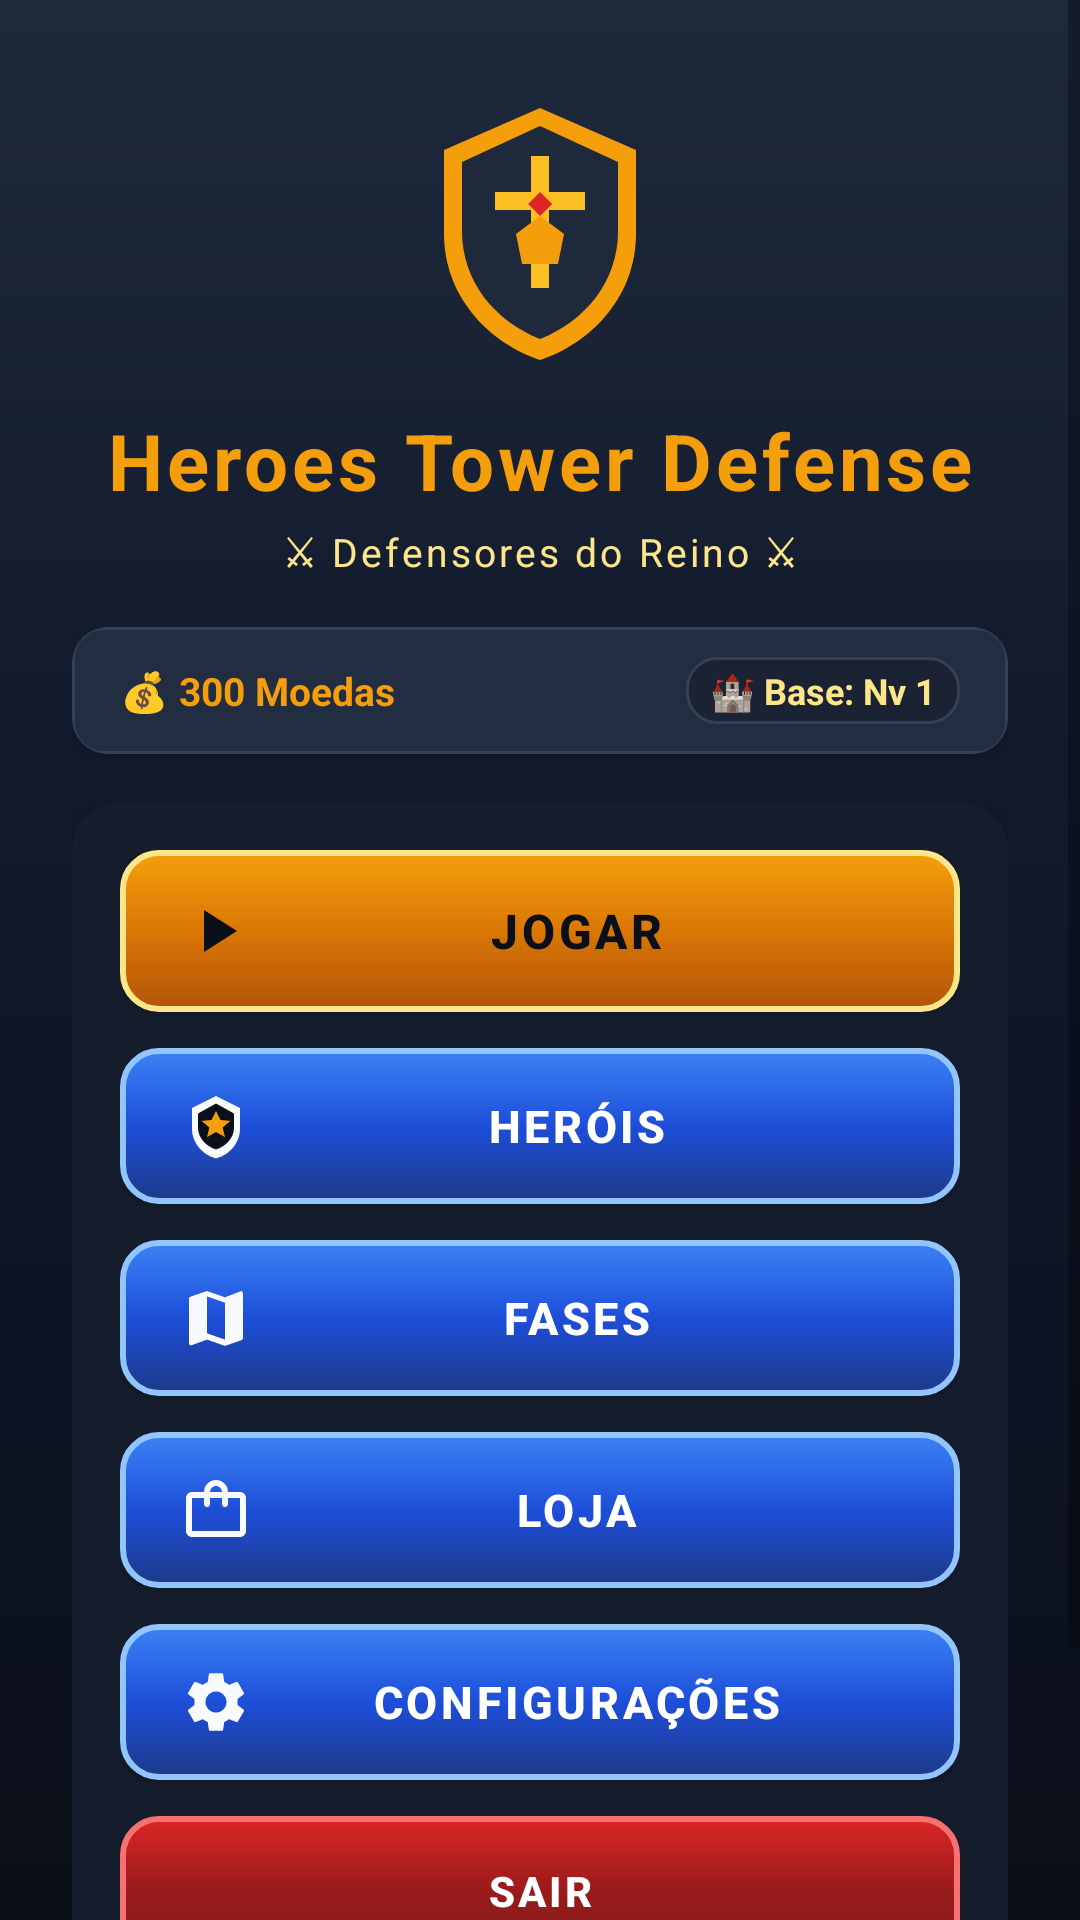

Point at icon controls on the screen. Image size 1080×1920, points as point (x, y).
shield crest: point (540, 234)
